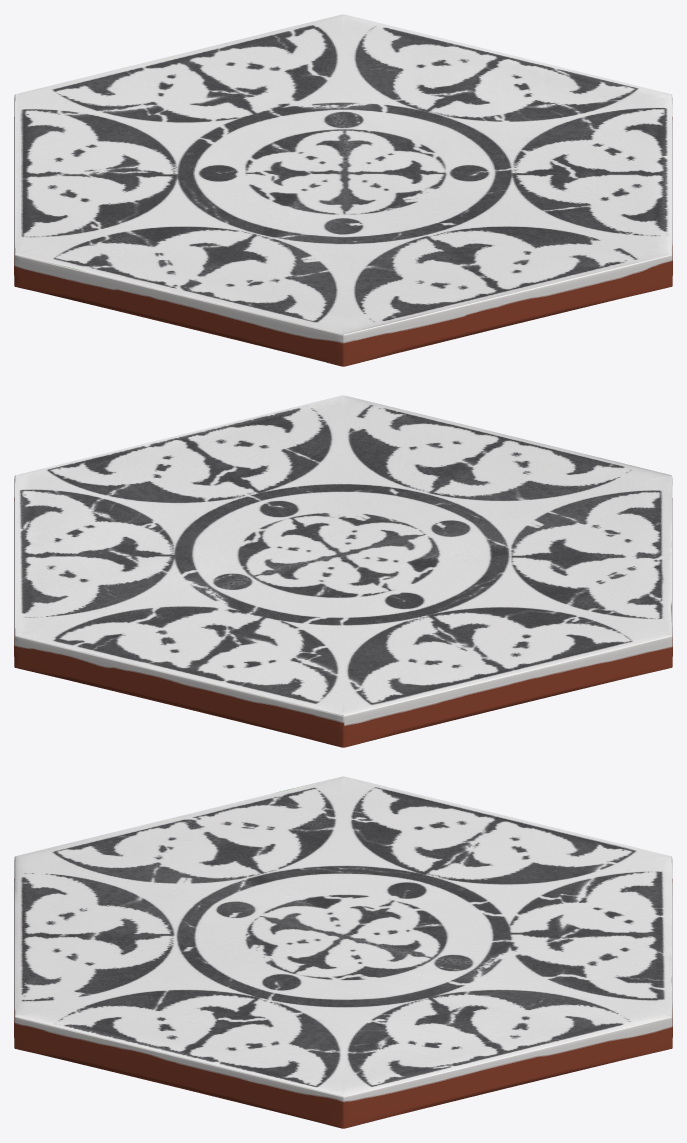
The model's file is marrakech_agadir_negro.glb.
The picture shows the model from 3 angles, top to bottom: view 1: azimuth 30°, elevation 25°; view 2: azimuth 150°, elevation 25°; view 3: azimuth 270°, elevation 25°; orthographic projection.
Parts seen in each view (by area): view 1: 3DSMeshMatrix; view 2: 3DSMeshMatrix; view 3: 3DSMeshMatrix.
Boxes of the visible parts, bbox=[...] form: 3DSMeshMatrix: bbox=[14, 14, 672, 366]; 3DSMeshMatrix: bbox=[14, 395, 672, 747]; 3DSMeshMatrix: bbox=[14, 776, 672, 1128].
Bounding box in the file's own units: 16.96 × 0.8 × 14.72.
Materials: 1 (1 with a texture image).
